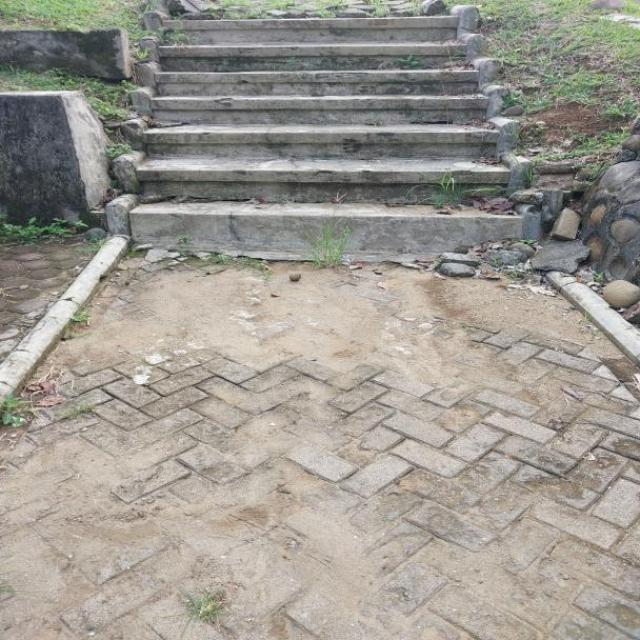stairs ahead at: (131, 16, 527, 241)
